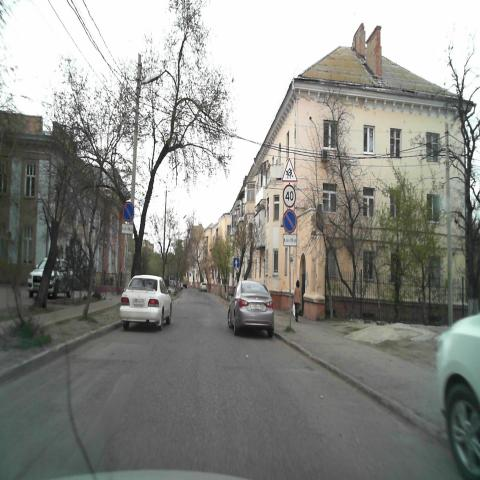8_5_4: (283, 234, 297, 246), (121, 223, 132, 234)
